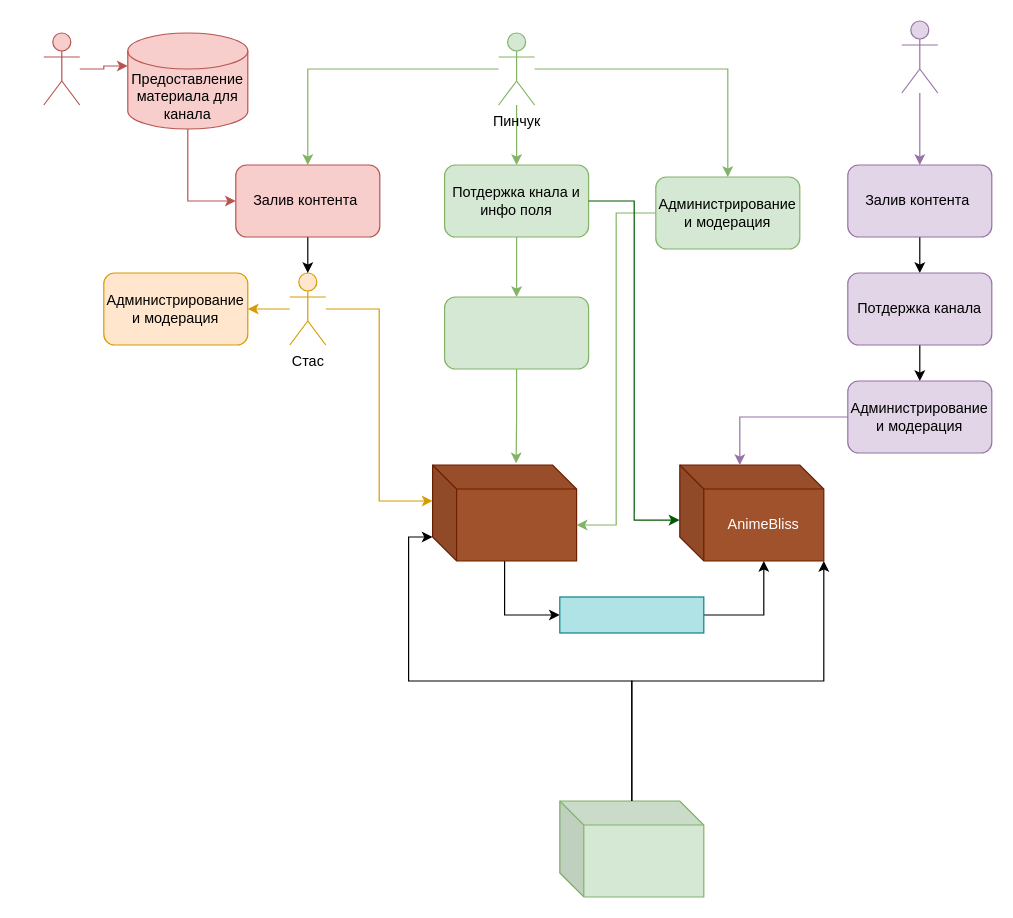
Some shapes in this 1013 by 918 pixel diagram are drawn without their labels. The box of each missing label's shape, as (x1, y1, x2, y2) in pixels:
Даниил: (901, 20, 938, 93)
Закуп и рекалма (продвижение канала): (443, 296, 589, 369)
Инфополе (Соцсети): (559, 800, 704, 897)
перегонка трафика в основу: (559, 596, 704, 633)
Светличный: (43, 32, 80, 105)
Хенталыч: (431, 464, 577, 561)
